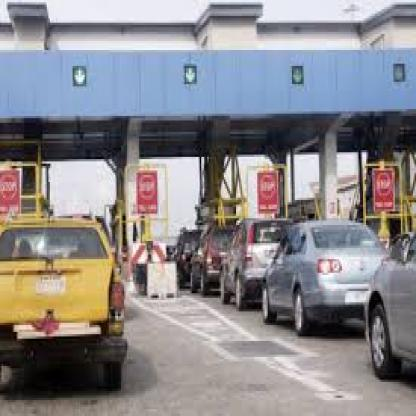car: (0, 190, 150, 416), (233, 215, 392, 356), (210, 207, 316, 306), (362, 235, 416, 386), (189, 221, 251, 296)
